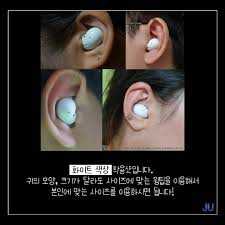earphone: (44, 69, 84, 148), (77, 11, 115, 69), (122, 82, 155, 131), (143, 17, 169, 63)
